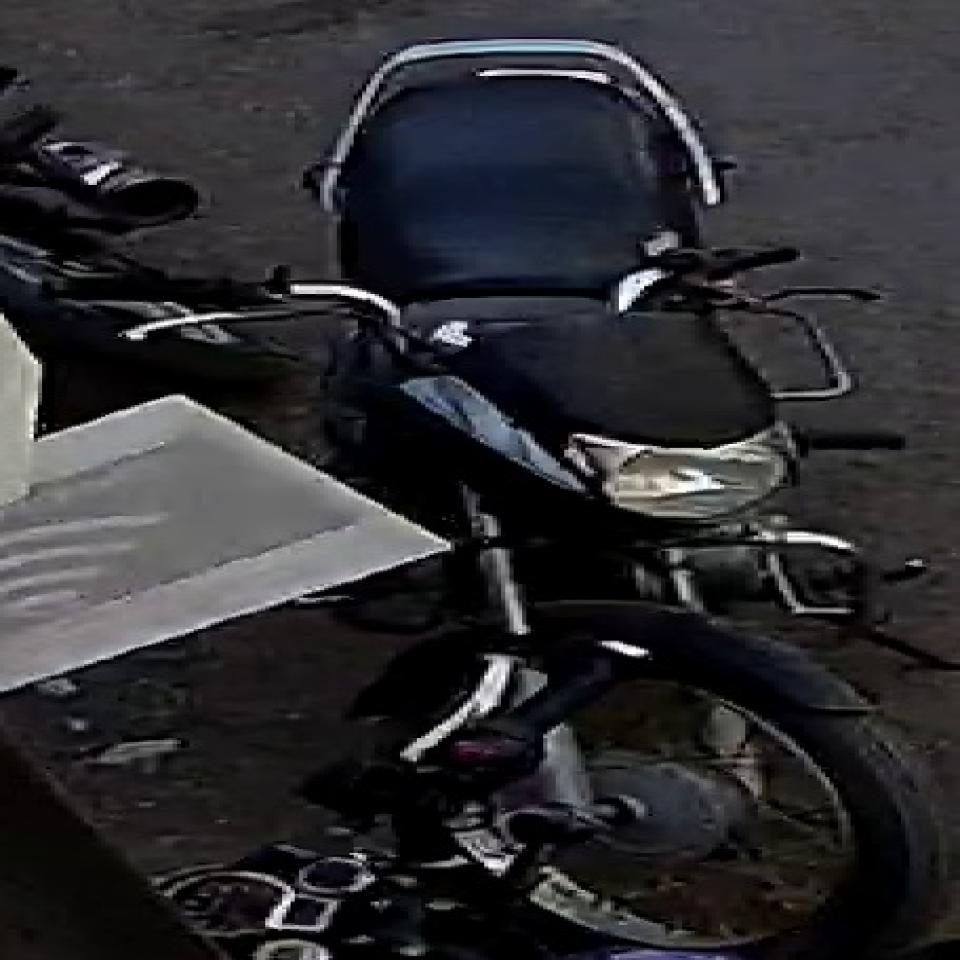head_light: (556, 423, 802, 513)
